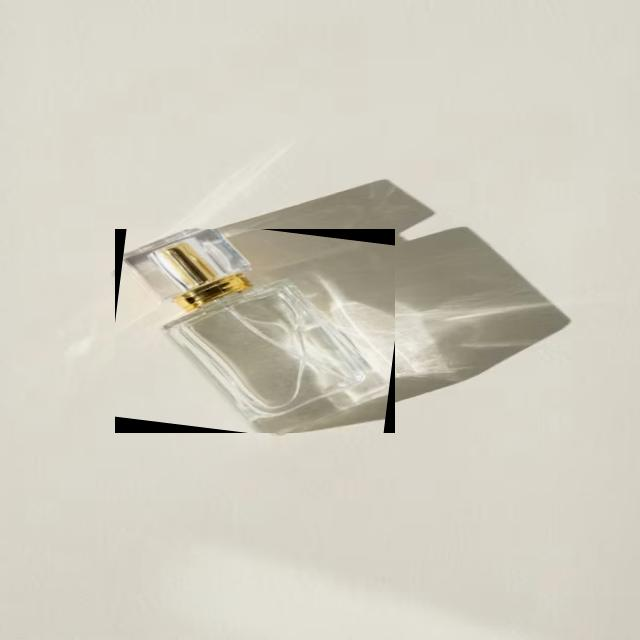Bottle: (115, 229, 393, 433)
